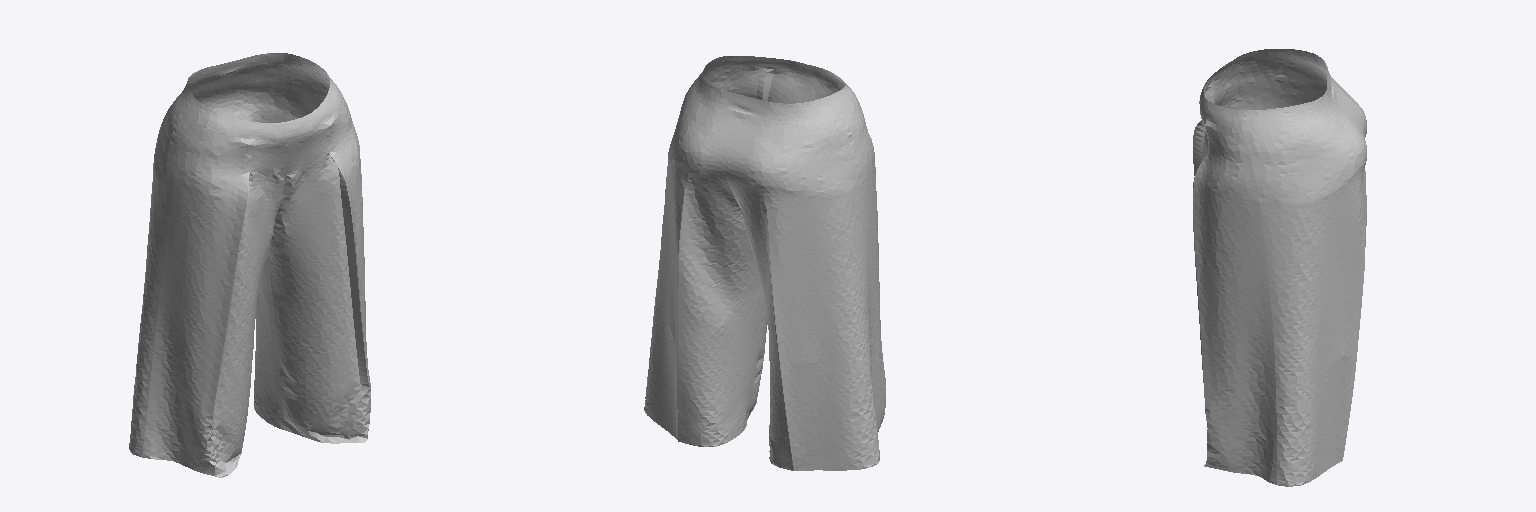
Rendered from XLarge_Tall.obj.
3 renders of one model, left to right at view 1: azimuth 30°, elevation 25°; view 2: azimuth 150°, elevation 25°; view 3: azimuth 270°, elevation 25°, orthographic.
Parts seen in each view (by area): view 1: changku.005; view 2: changku.005; view 3: changku.005.
Boxes of the visible parts, <box> form: changku.005: <box>129,53,370,477</box>; changku.005: <box>644,56,885,470</box>; changku.005: <box>1193,49,1366,486</box>.
Size of the model in its own units: 0.6852 by 0.9991 by 0.4435.